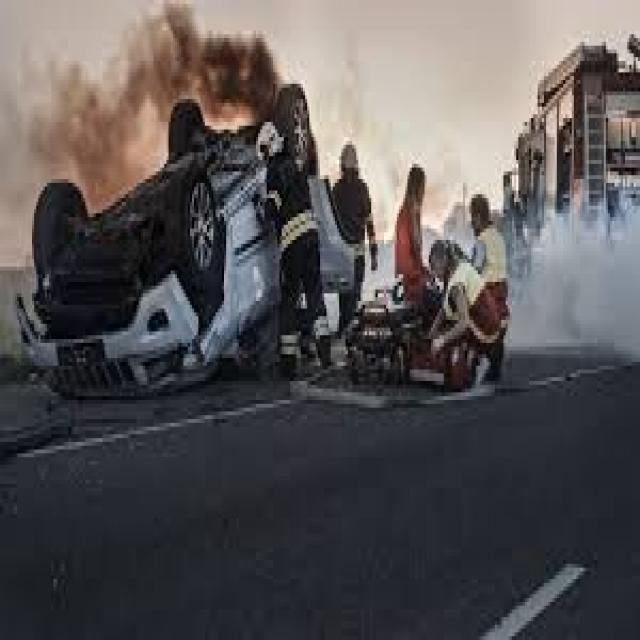accident: (40, 71, 348, 427)
